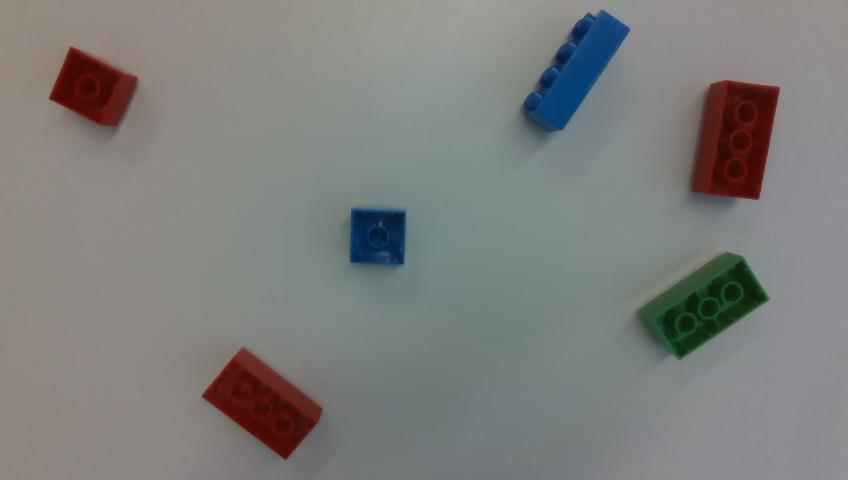2x2_blue: (350, 208, 404, 263)
2x2_red: (49, 47, 137, 126)
4x2_blue: (523, 10, 629, 132)
4x2_green: (639, 252, 768, 358)
4x2_red: (203, 348, 321, 458), (692, 80, 779, 197)
